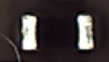COMP: (13, 12, 100, 55)
STAN: (1, 32, 21, 62), (6, 36, 20, 57)
